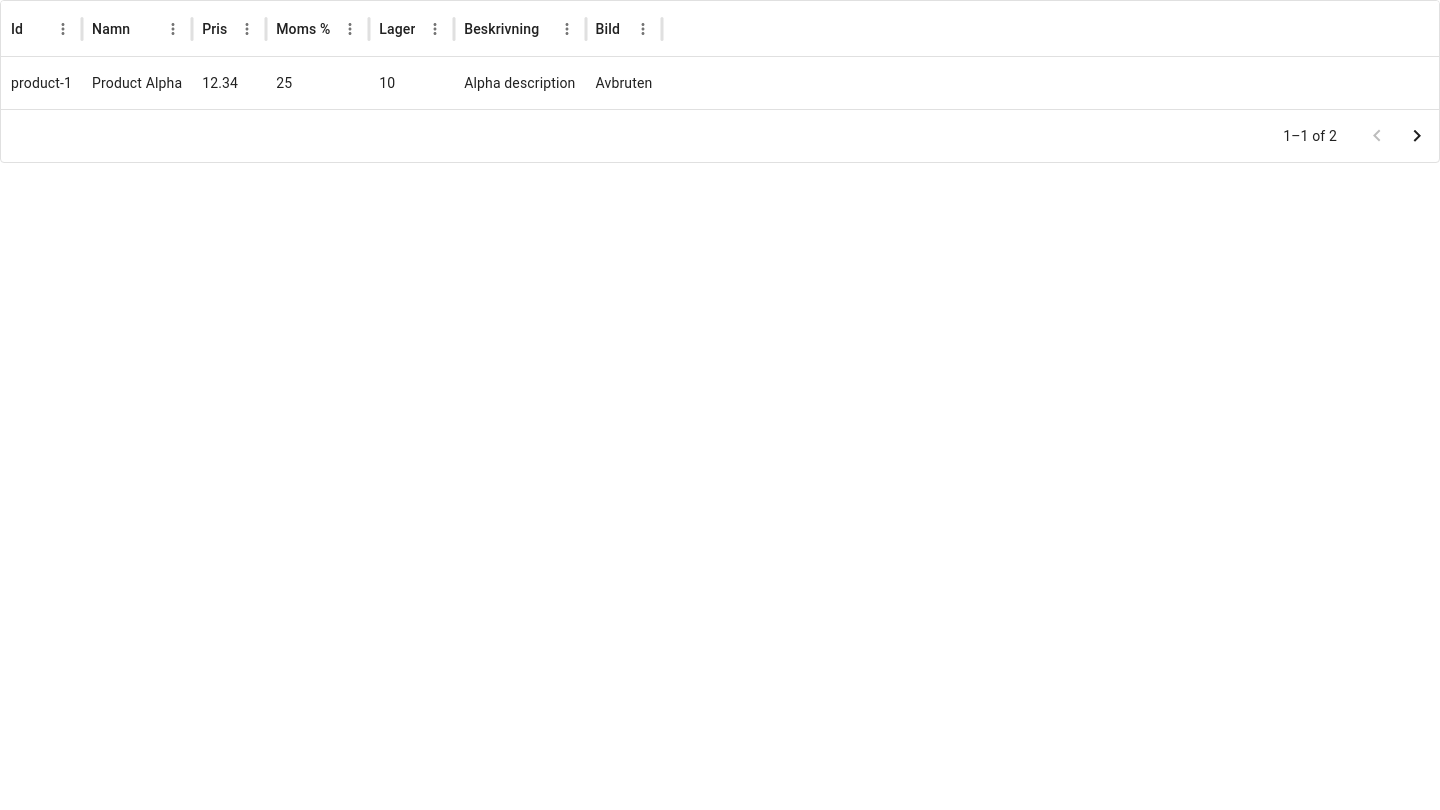
Test case: Datagrid › handles row action success and shows notification
Click the cell "Product Alpha".
click(137, 83)  # box [92, 75, 182, 91]
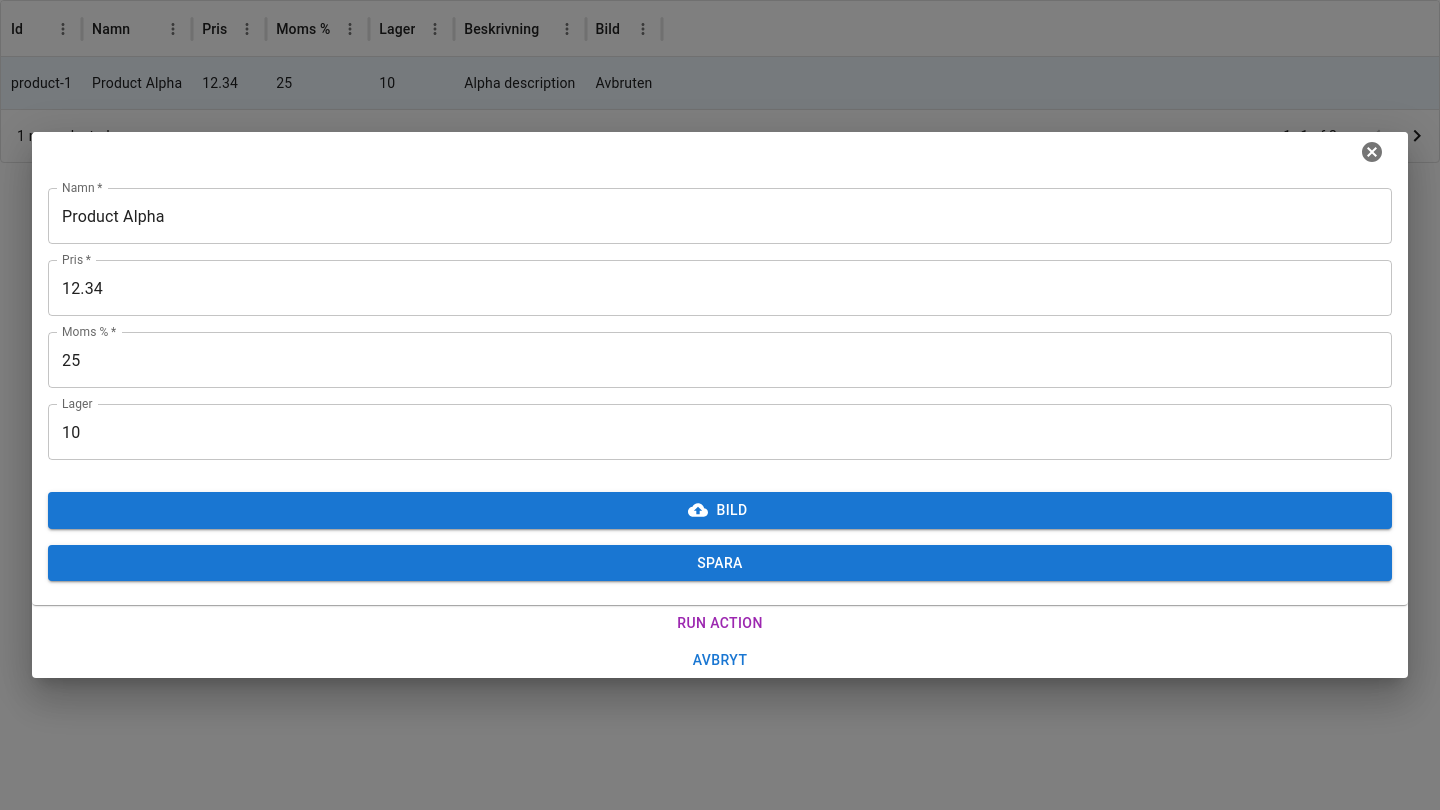
Click the button "Run Action".
click(720, 623)  # box [32, 605, 1408, 642]
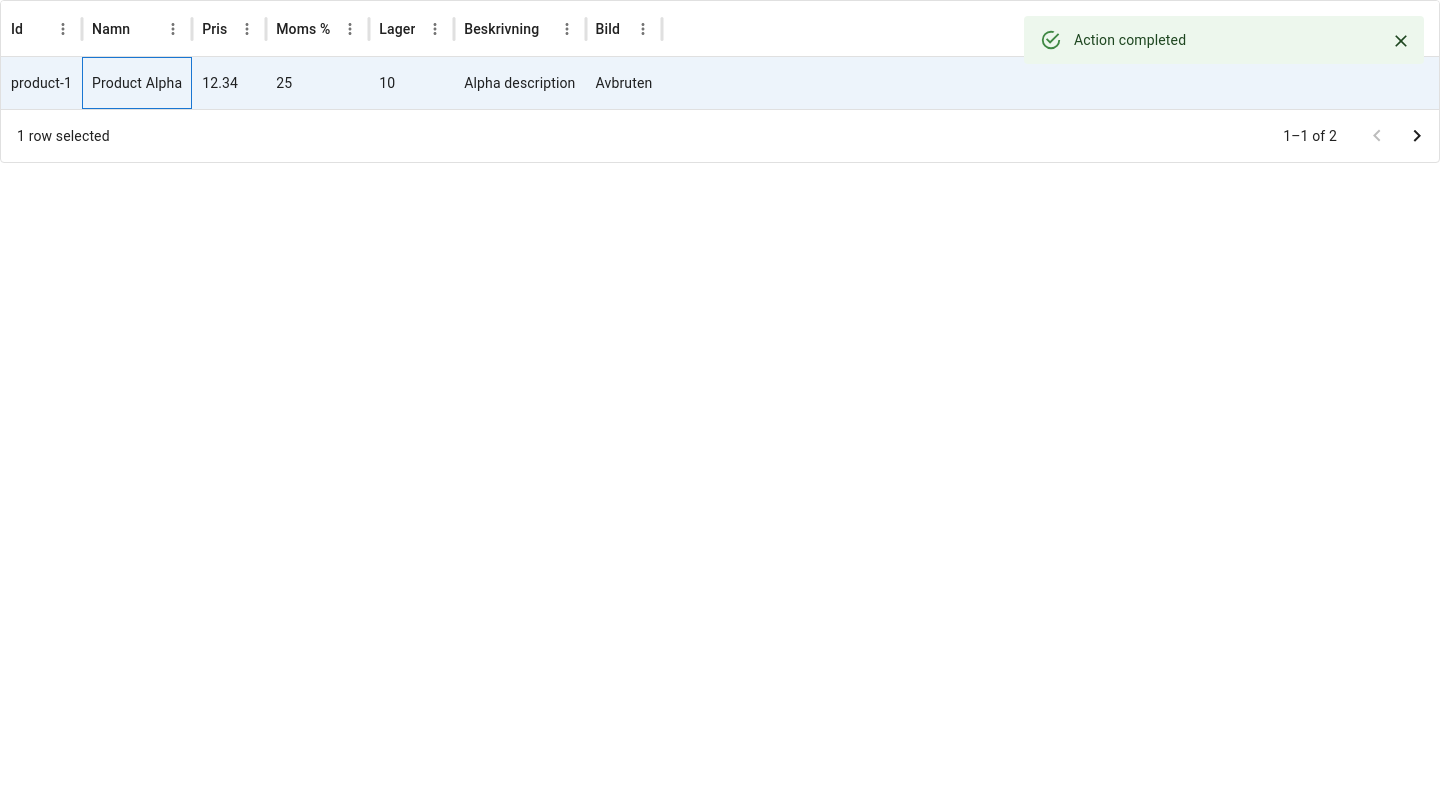
Expected: the text "Action completed" is shown, [1074, 32, 1186, 48]
